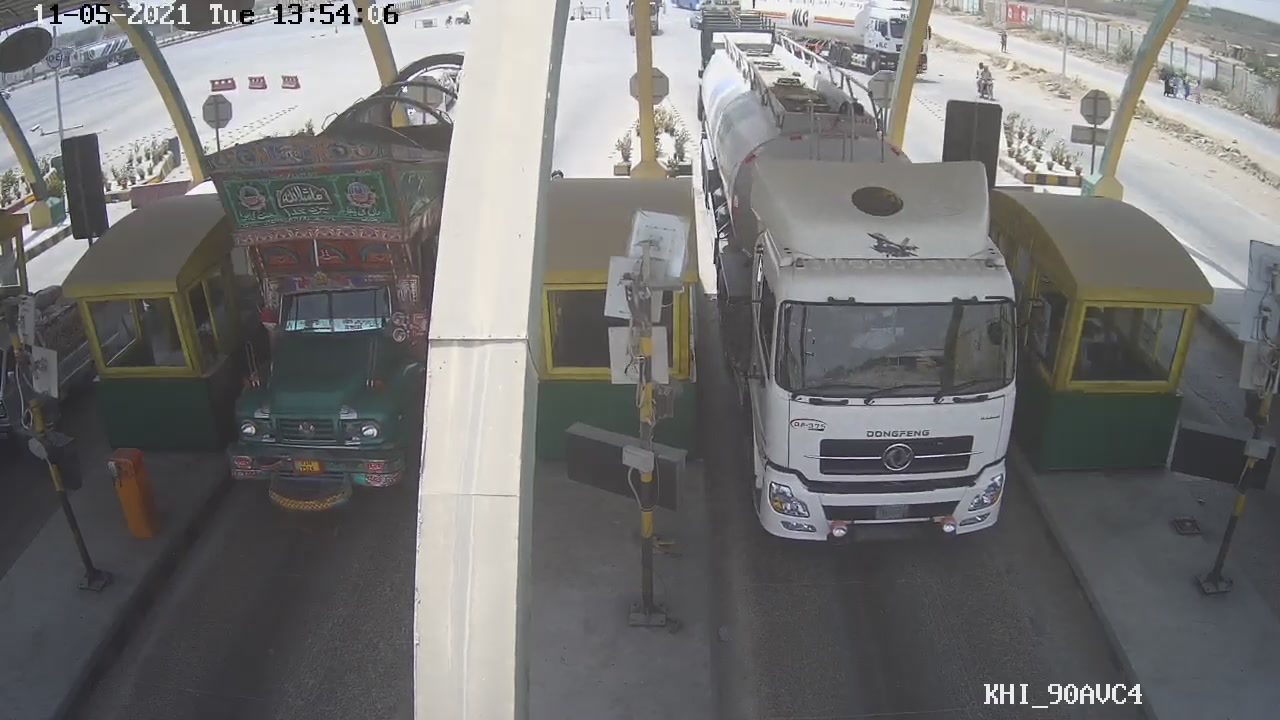F6: (696, 49, 1047, 545)
